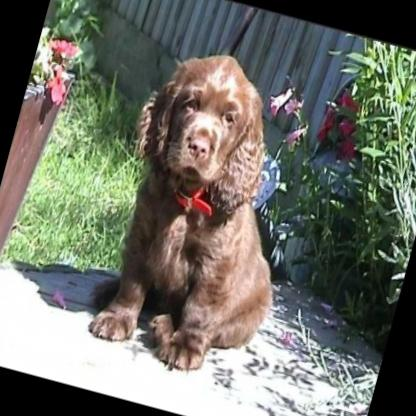Sussex_spaniel: (74, 33, 328, 391)
